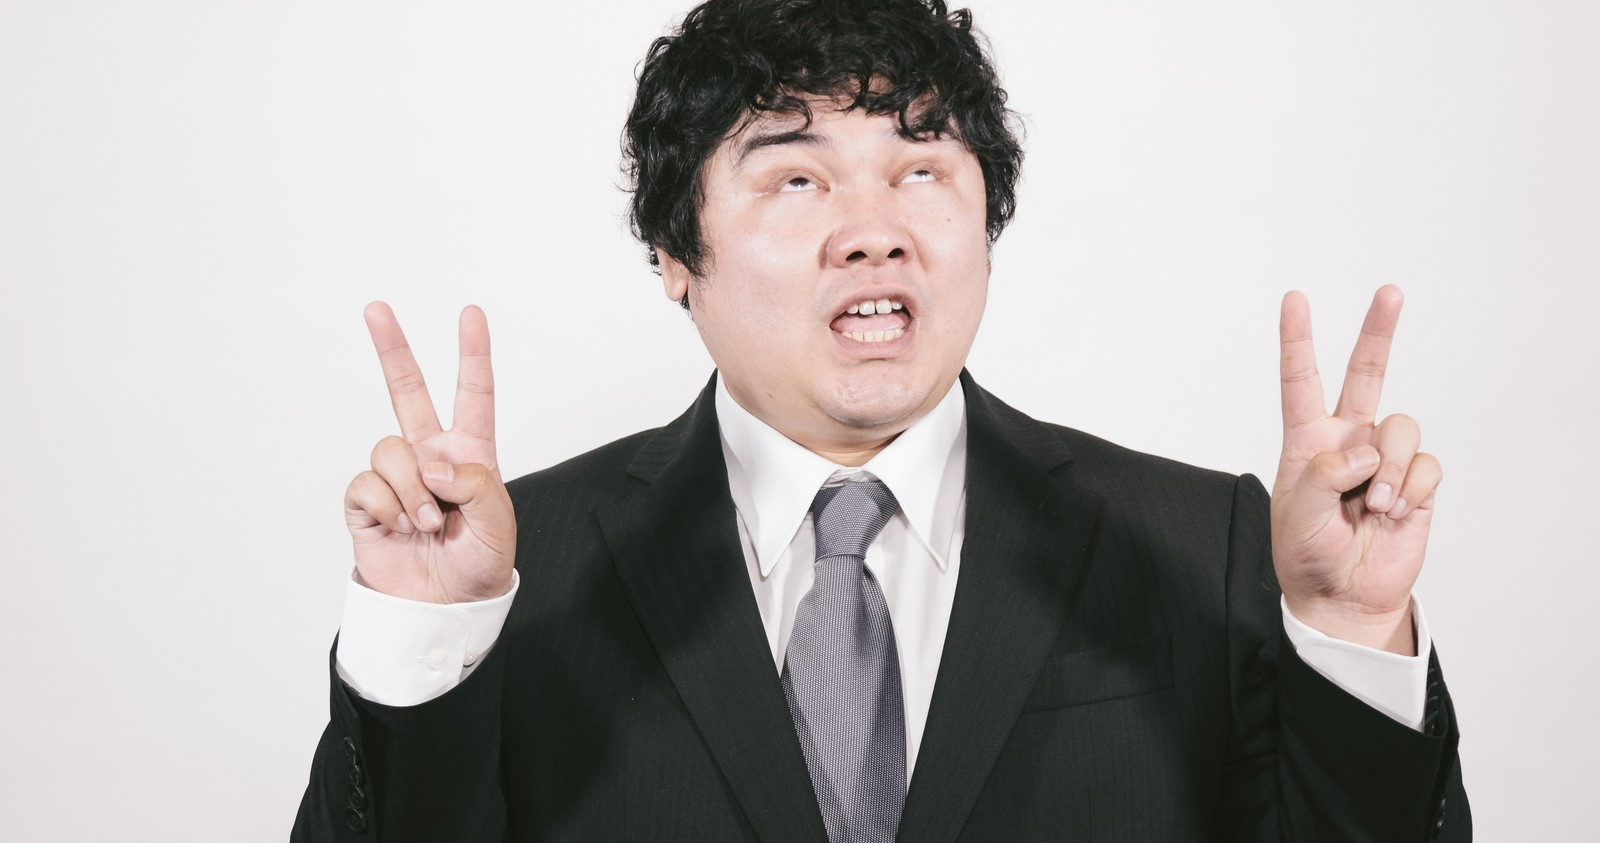face: (684, 69, 995, 438)
hand: (1268, 270, 1451, 609), (342, 285, 523, 604)
